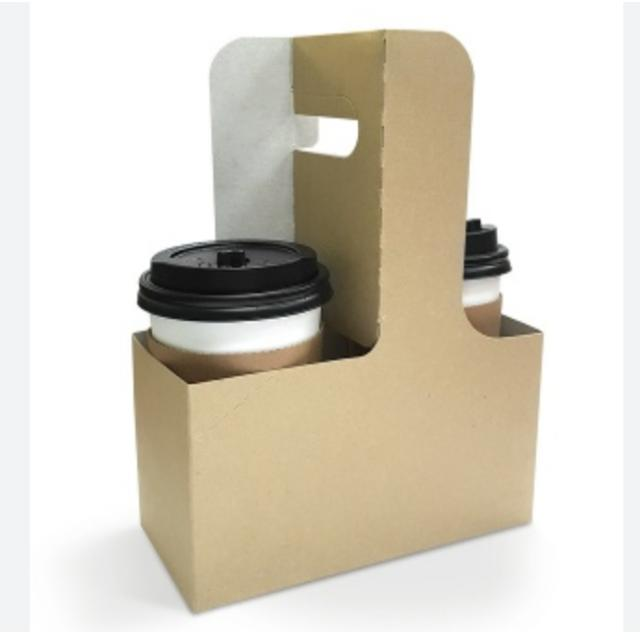biodegradable: (92, 19, 566, 622)
